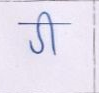i_matra: (40, 11, 61, 55)
